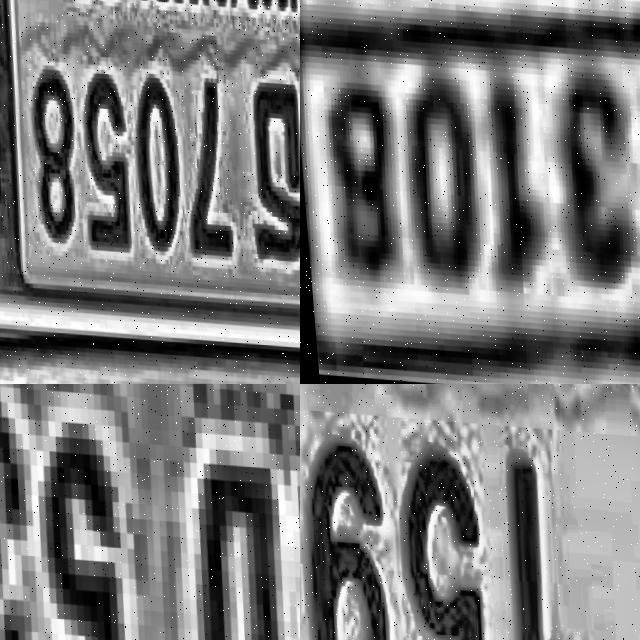license-plate: (300, 0, 640, 384), (0, 0, 300, 384), (300, 384, 640, 640), (0, 384, 300, 640)
